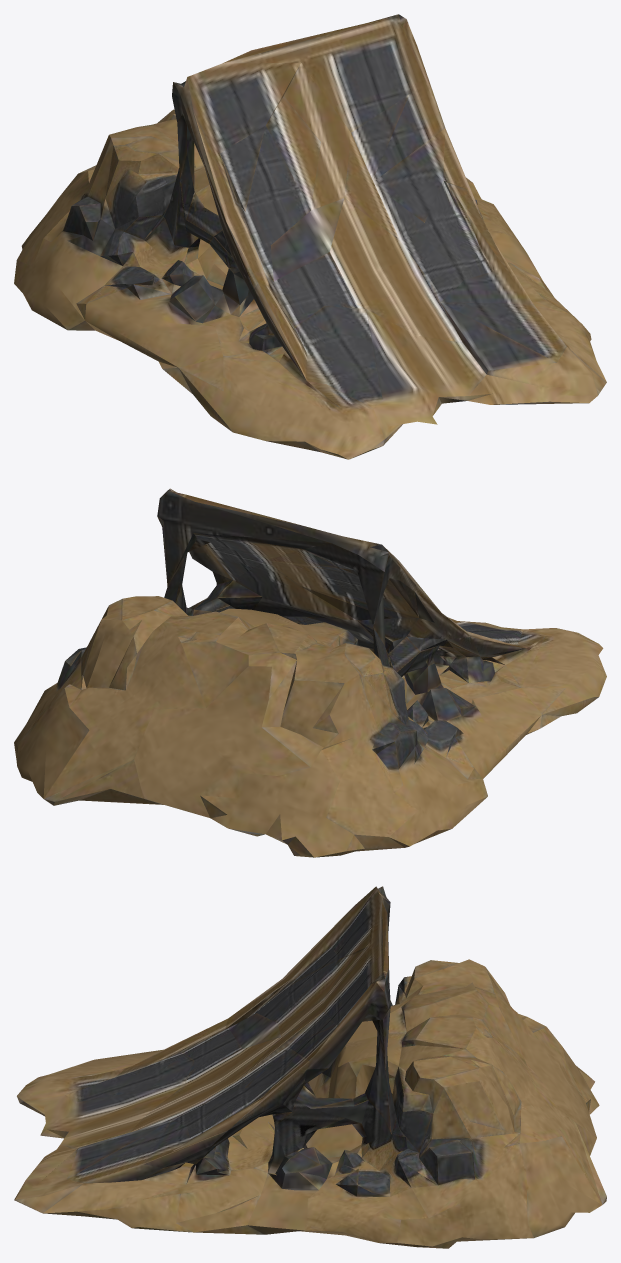
File: jump-ramp.lod.glb
3 views of the same model, one above another, from view 1: azimuth 30°, elevation 25°; view 2: azimuth 150°, elevation 25°; view 3: azimuth 270°, elevation 25° (orthographic). The views are drawn at different scales.
Parts seen in each view (by area): view 1: output_unwrapped; view 2: output_unwrapped; view 3: output_unwrapped.
Part boxes in pixels (x1,y1,x2,y2): output_unwrapped: (14,14,606,459); output_unwrapped: (14,488,606,857); output_unwrapped: (14,886,606,1248).
Bounding box in the file's own units: 1.44 × 0.7601 × 1.8.
1 material, 1 textured.
